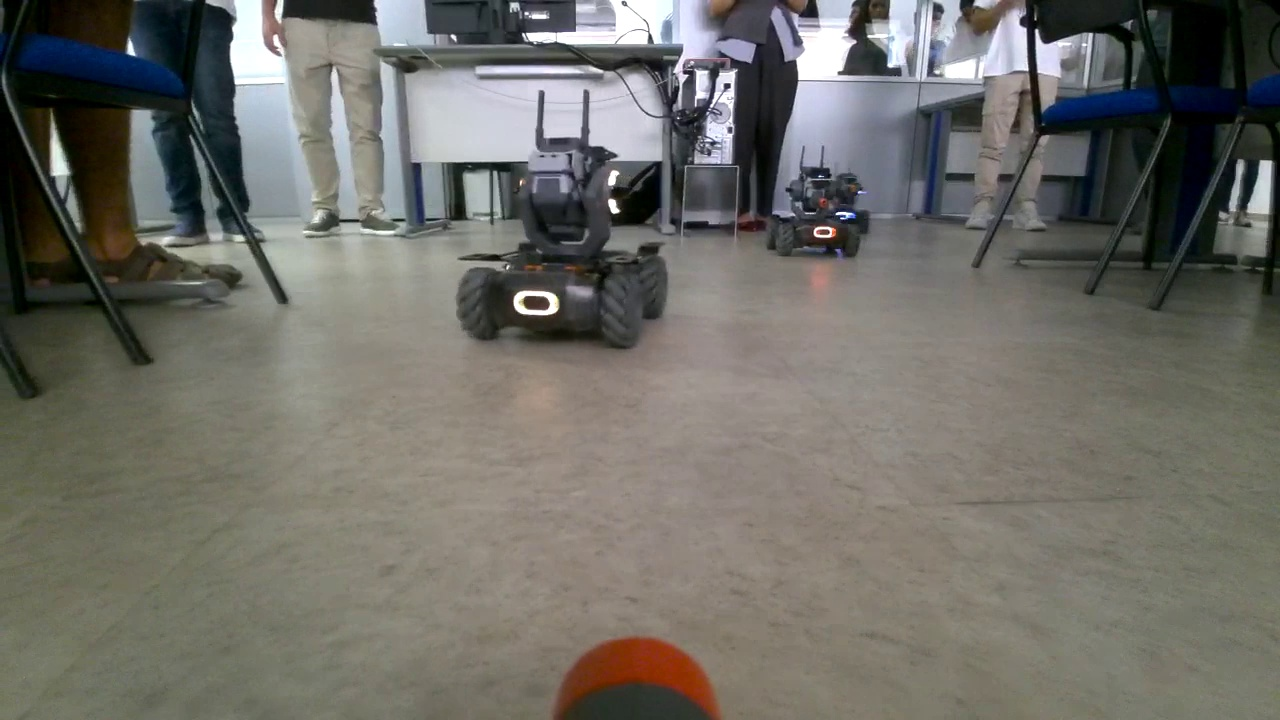robot: (456, 88, 669, 348), (766, 144, 859, 260), (819, 163, 869, 239)
